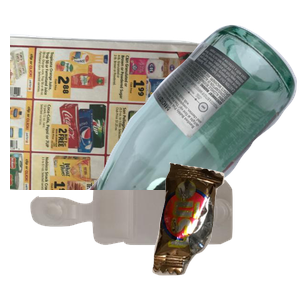glass: (86, 22, 300, 202)
paper: (10, 31, 214, 211)
plastic: (28, 176, 253, 300)
trash: (150, 160, 300, 300)
